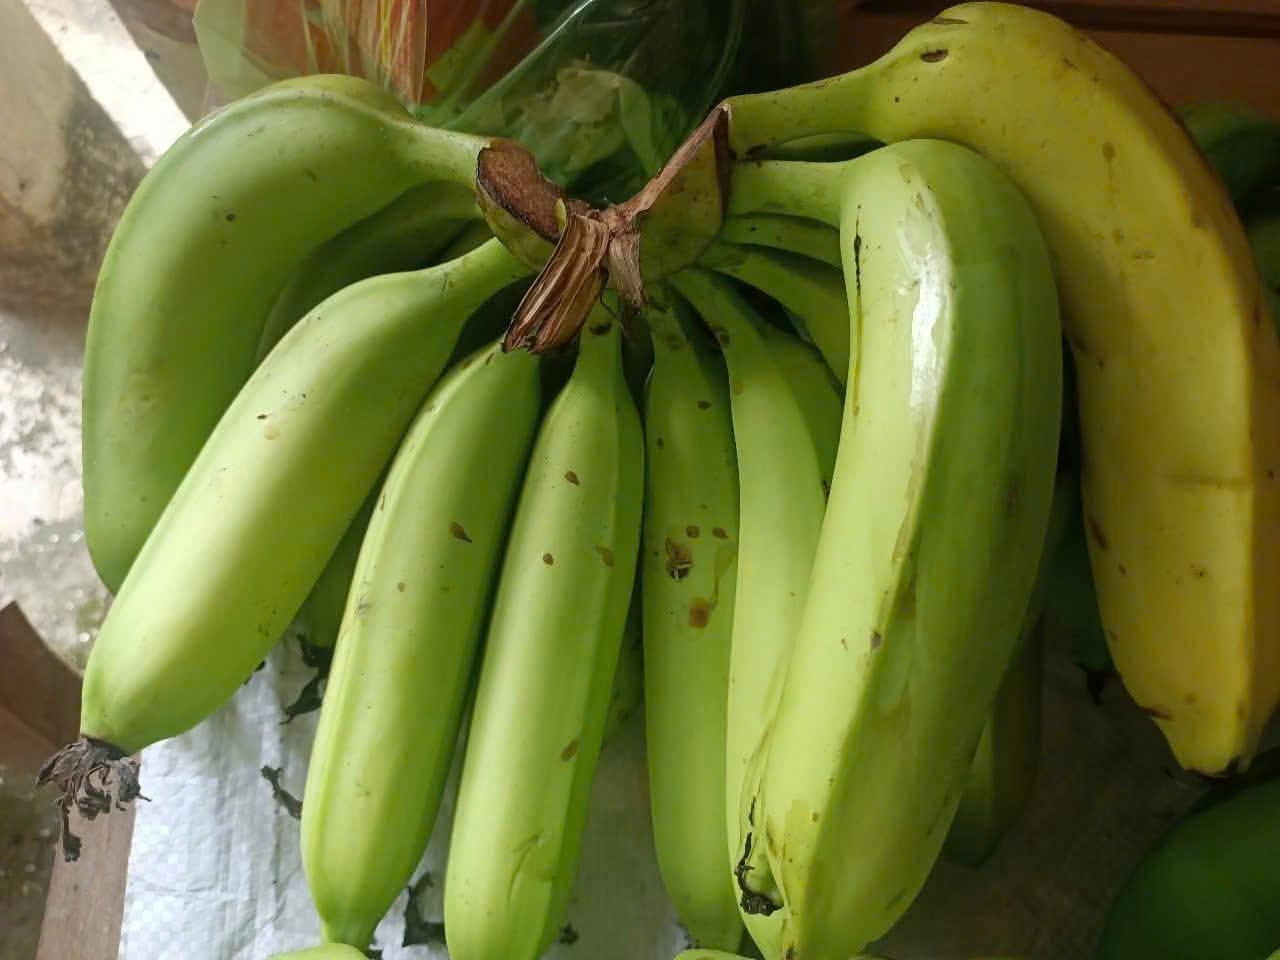banana: (655, 57, 1275, 954), (88, 55, 609, 960)
